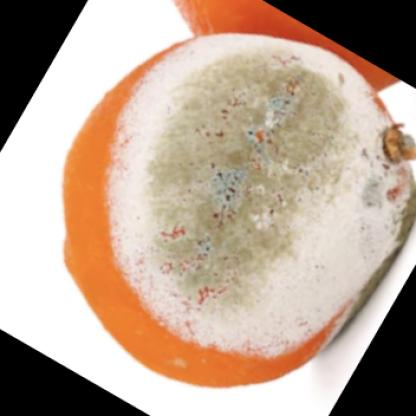rotten: (58, 34, 416, 388)
